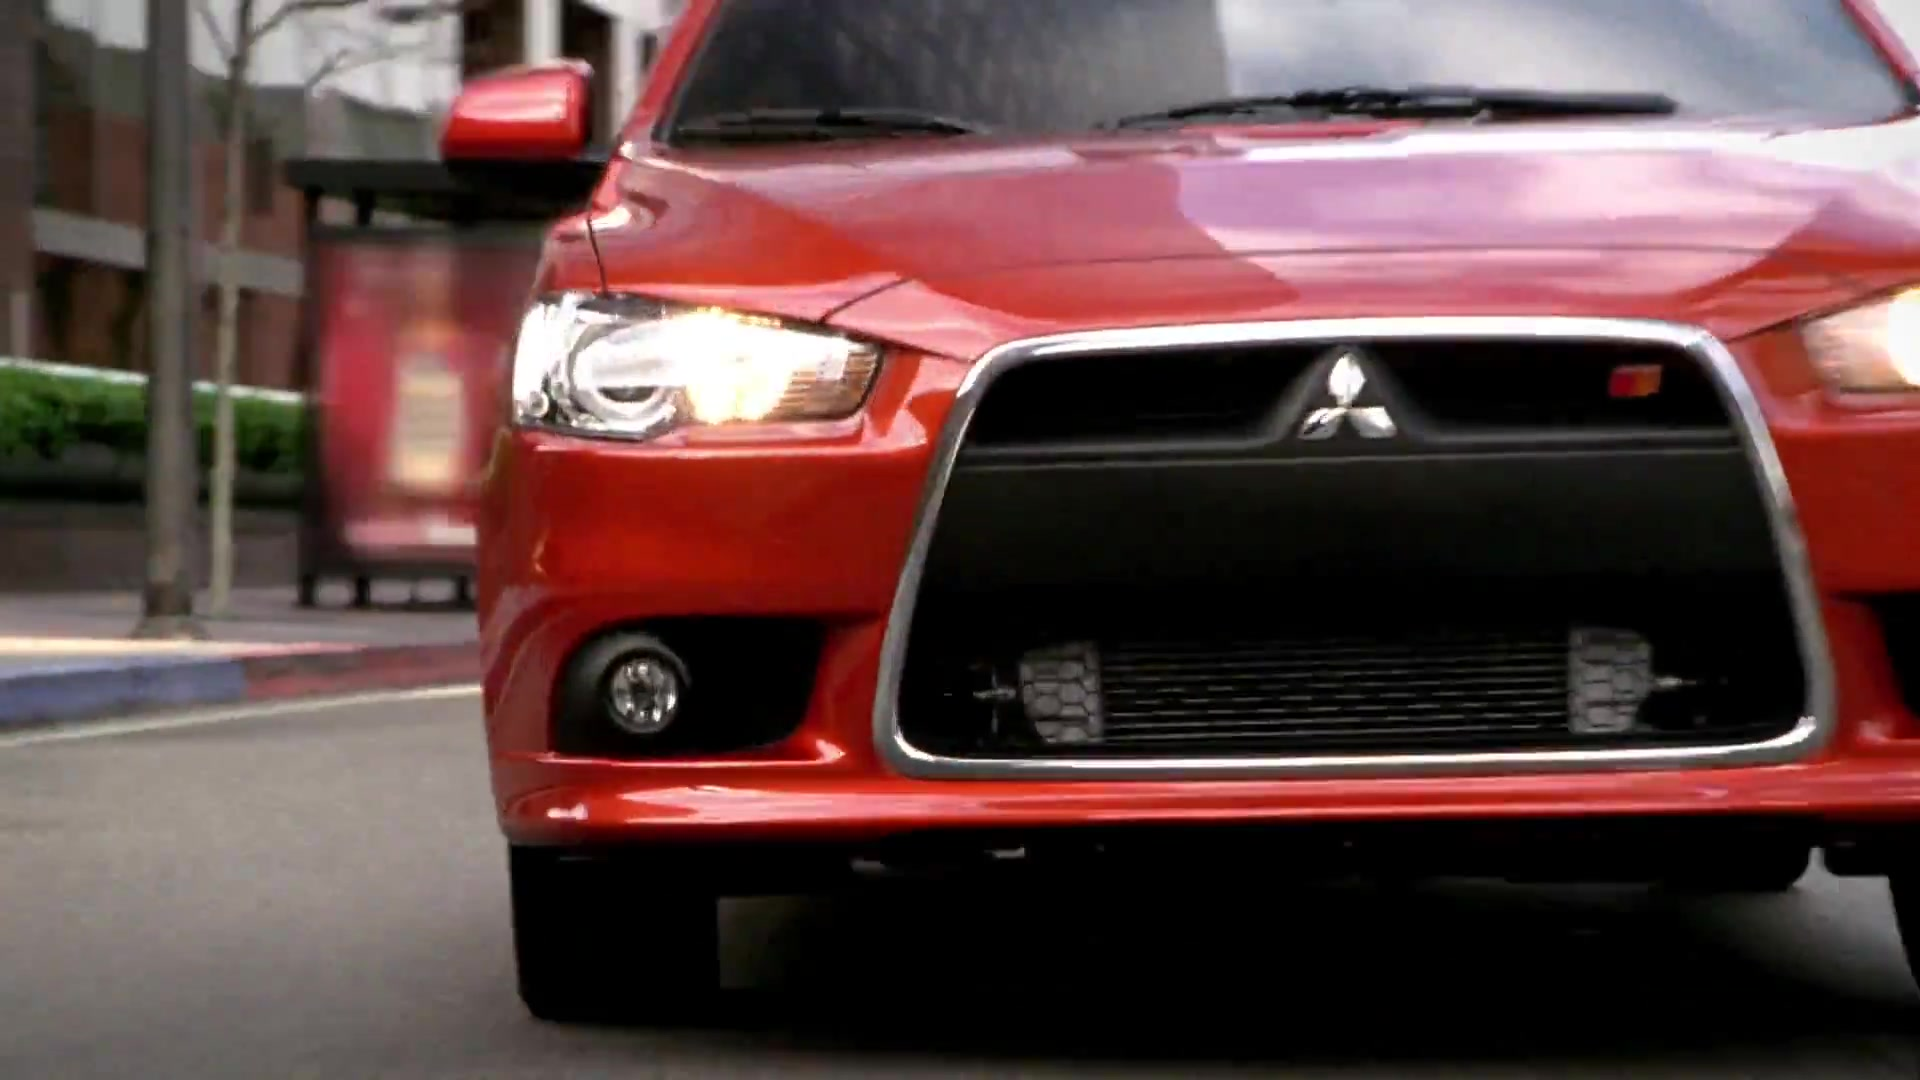car: (436, 3, 1920, 1046)
